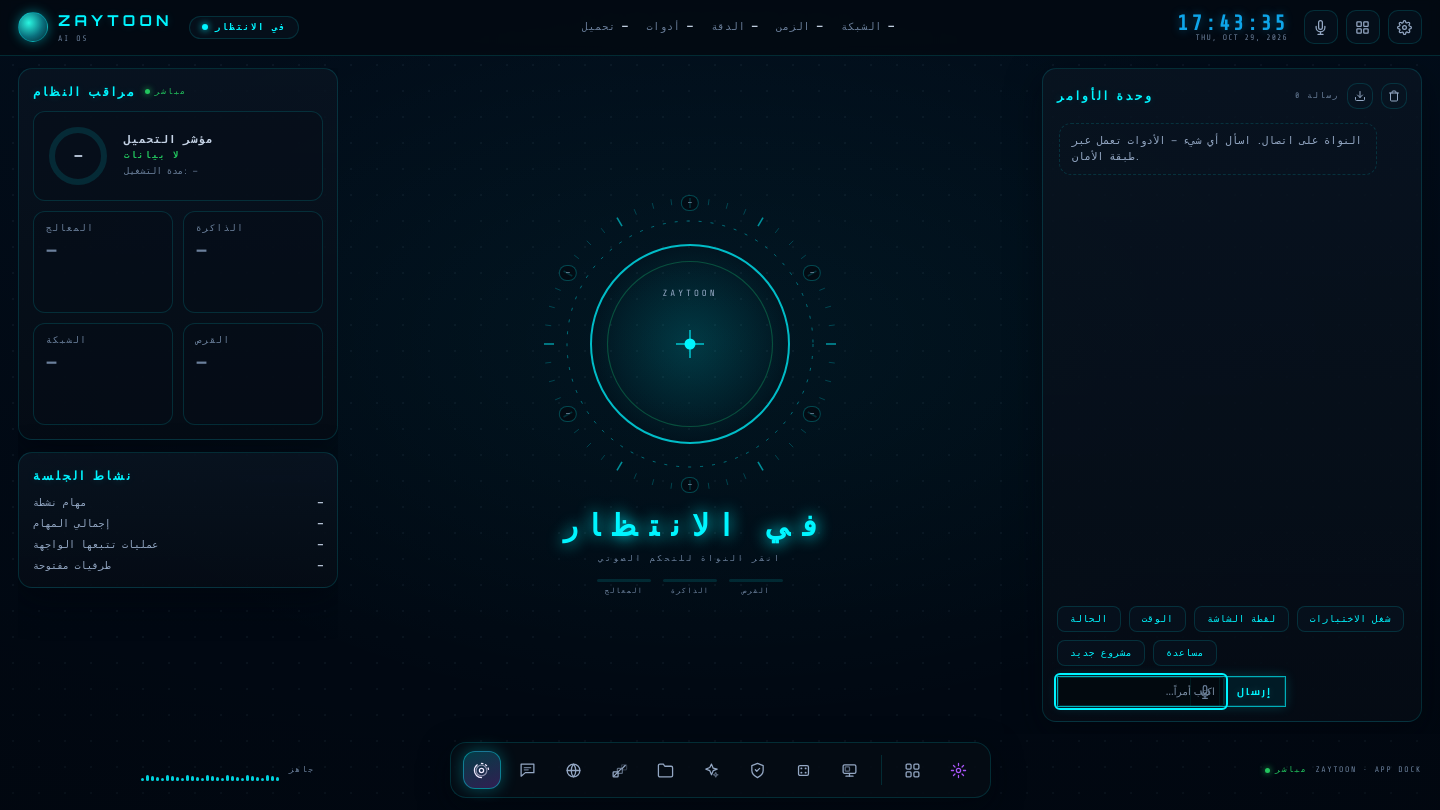
Scenario: NexusDashboard › asks the same things in Arabic
// The top bar and the dock both carry the palette button — open either.
Click the button named "كل الأوامر" next to "17:43:35" at (1363, 27), box [1346, 10, 1380, 44]
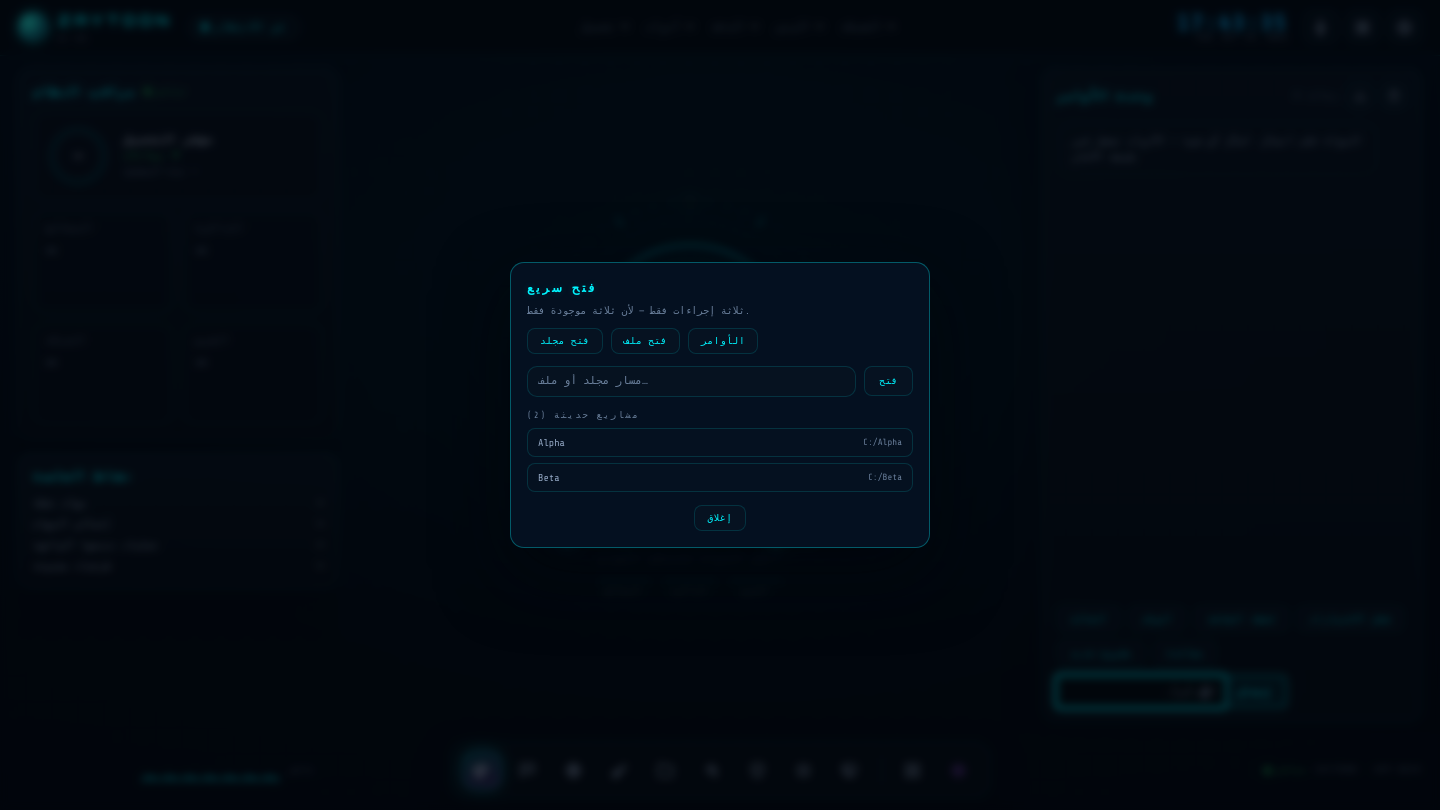
Expected: the button "الأوامر" is shown, [688, 328, 758, 354]
Expected: the button "Alpha C:/Alpha" is shown, [527, 428, 913, 457]
